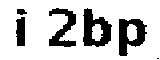2: (44, 6, 78, 51)
b: (81, 6, 111, 49)
i: (9, 3, 35, 53)
p: (114, 17, 149, 59)
